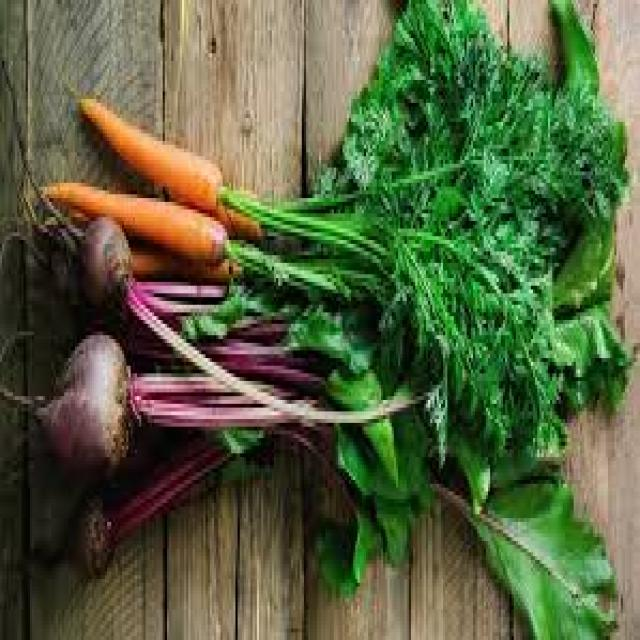organic waste: (225, 0, 625, 636), (120, 267, 362, 495), (0, 61, 124, 312), (102, 430, 362, 545), (127, 358, 464, 442), (73, 91, 227, 206), (0, 324, 131, 457), (34, 179, 225, 263), (17, 488, 118, 586), (94, 190, 261, 240), (120, 240, 242, 278)
